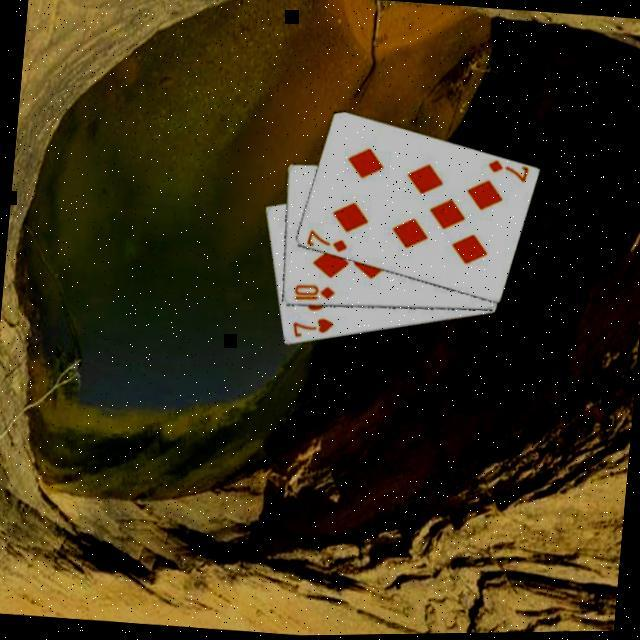10D: (290, 282, 338, 308)
7D: (304, 227, 352, 258), (483, 159, 531, 190)
7H: (289, 314, 337, 345)
